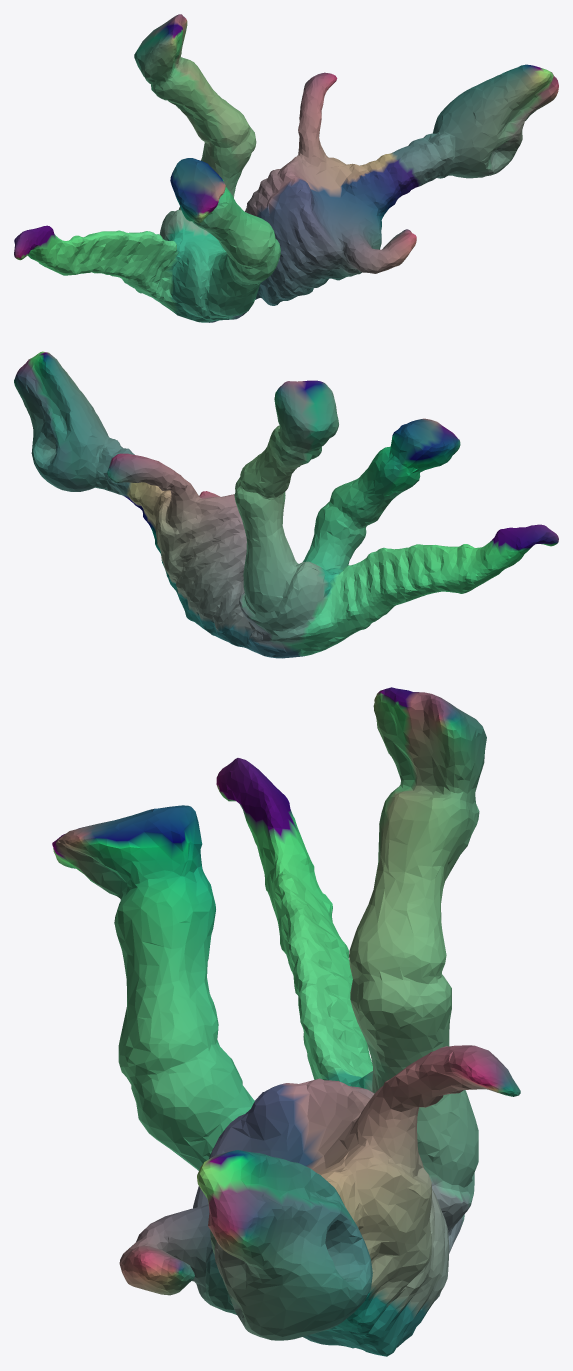
File: dino_skel-3.off.obj
3 renders of one model, top to bottom at view 1: azimuth 30°, elevation 25°; view 2: azimuth 150°, elevation 25°; view 3: azimuth 270°, elevation 25°, orthographic. The views are drawn at different scales.
Size of the model in its own units: 1.7 by 0.8708 by 0.6381.
